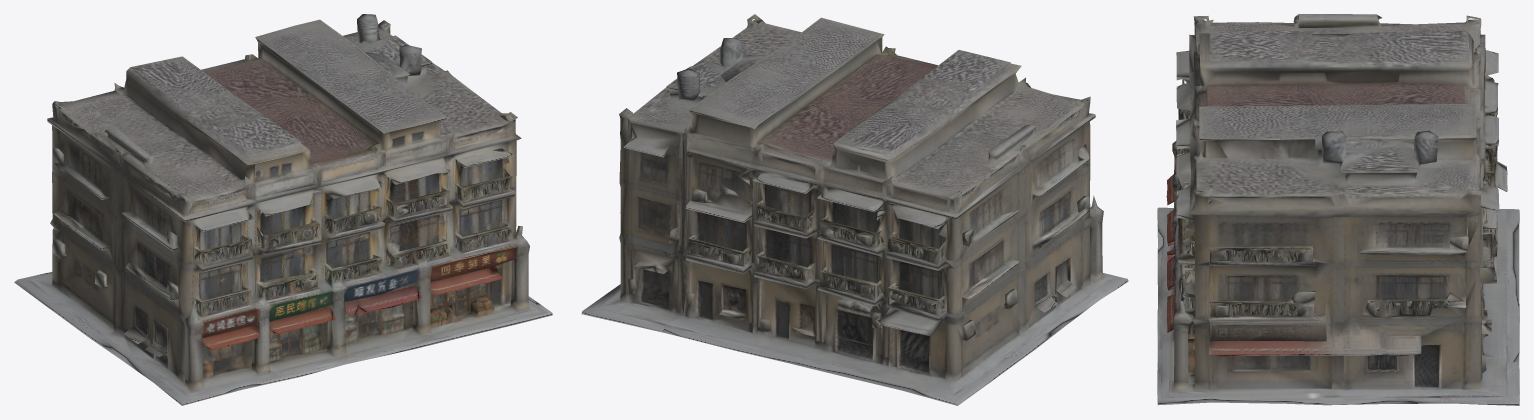
The model's file is 02-building-3d-model-56.glb.
The picture shows the model from 3 angles, left to right: view 1: azimuth 30°, elevation 25°; view 2: azimuth 150°, elevation 25°; view 3: azimuth 270°, elevation 25°; orthographic projection. The views are drawn at different scales.
Parts seen in each view (by area): view 1: tripo_node_9845bc28-8ca7-424d-bfb4-23da117869c8; view 2: tripo_node_9845bc28-8ca7-424d-bfb4-23da117869c8; view 3: tripo_node_9845bc28-8ca7-424d-bfb4-23da117869c8.
Boxes of the visible parts, x1,y1,x2,y2 form: tripo_node_9845bc28-8ca7-424d-bfb4-23da117869c8: (14, 14, 552, 405); tripo_node_9845bc28-8ca7-424d-bfb4-23da117869c8: (581, 14, 1128, 405); tripo_node_9845bc28-8ca7-424d-bfb4-23da117869c8: (1157, 14, 1519, 405).
Size of the model in its own units: 0.9815 by 0.5626 by 0.7682.
1 material, 1 textured.
